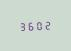six: (26, 20, 33, 31)
three: (18, 20, 25, 31)
two: (42, 19, 49, 30)
zero: (34, 20, 41, 30)
